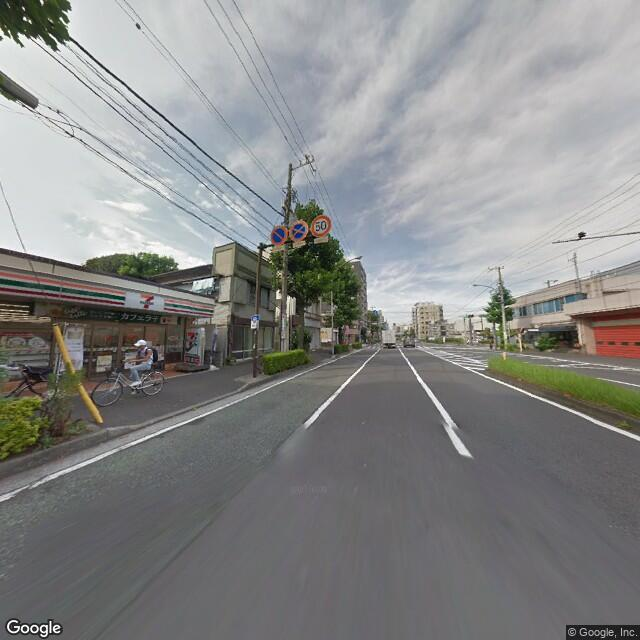7-eleven: (1, 264, 220, 320), (181, 326, 204, 360)
